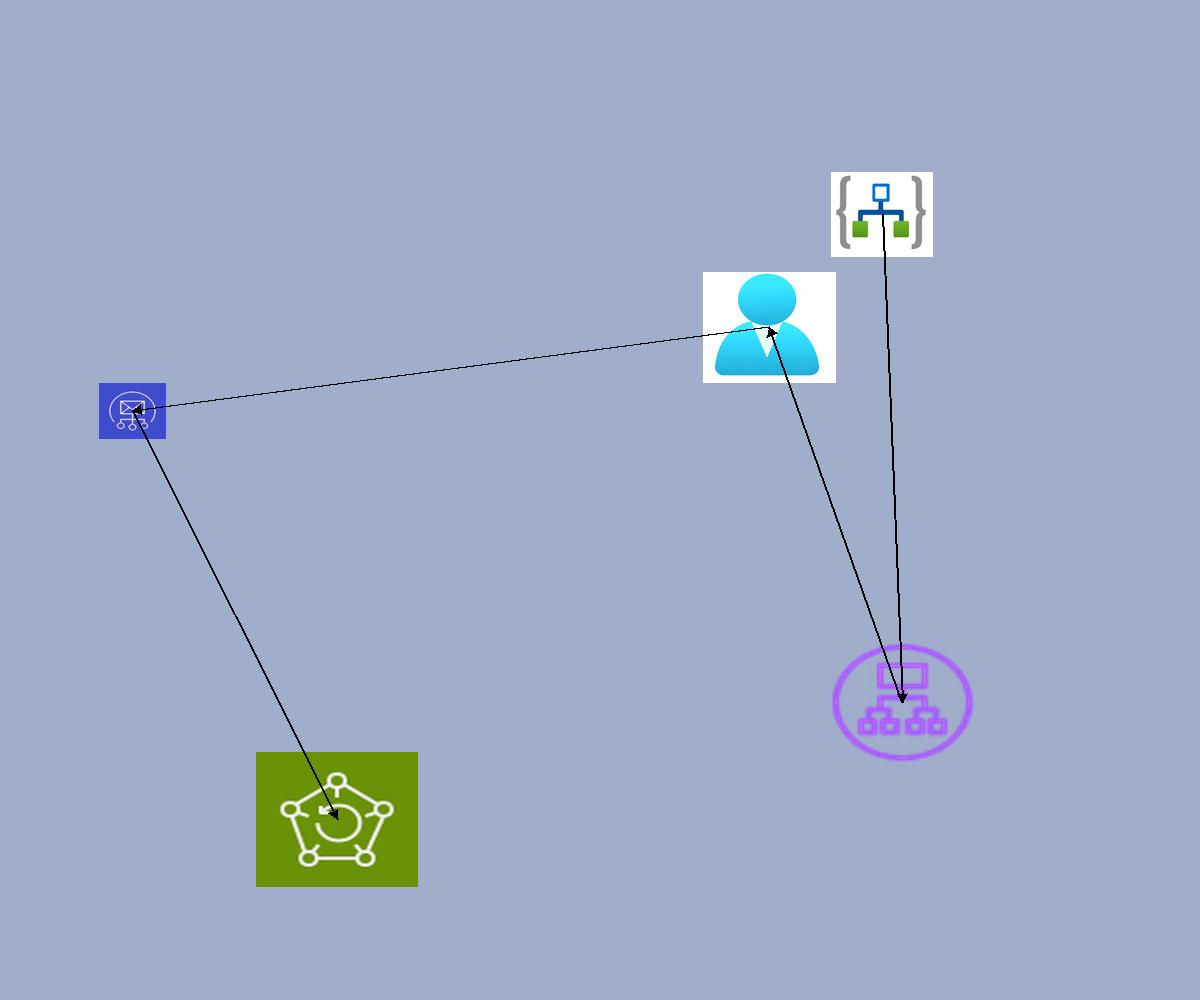AWS-Backup: (256, 752, 418, 887)
AWS-Res_Elastic-Load-Balancing_Application-Load-Balancer: (826, 639, 979, 766)
AWS-Simple-Email-Service: (99, 383, 166, 439)
Azure_integration-204-Logic-Apps: (831, 172, 933, 257)
Azure_users: (703, 272, 836, 383)
